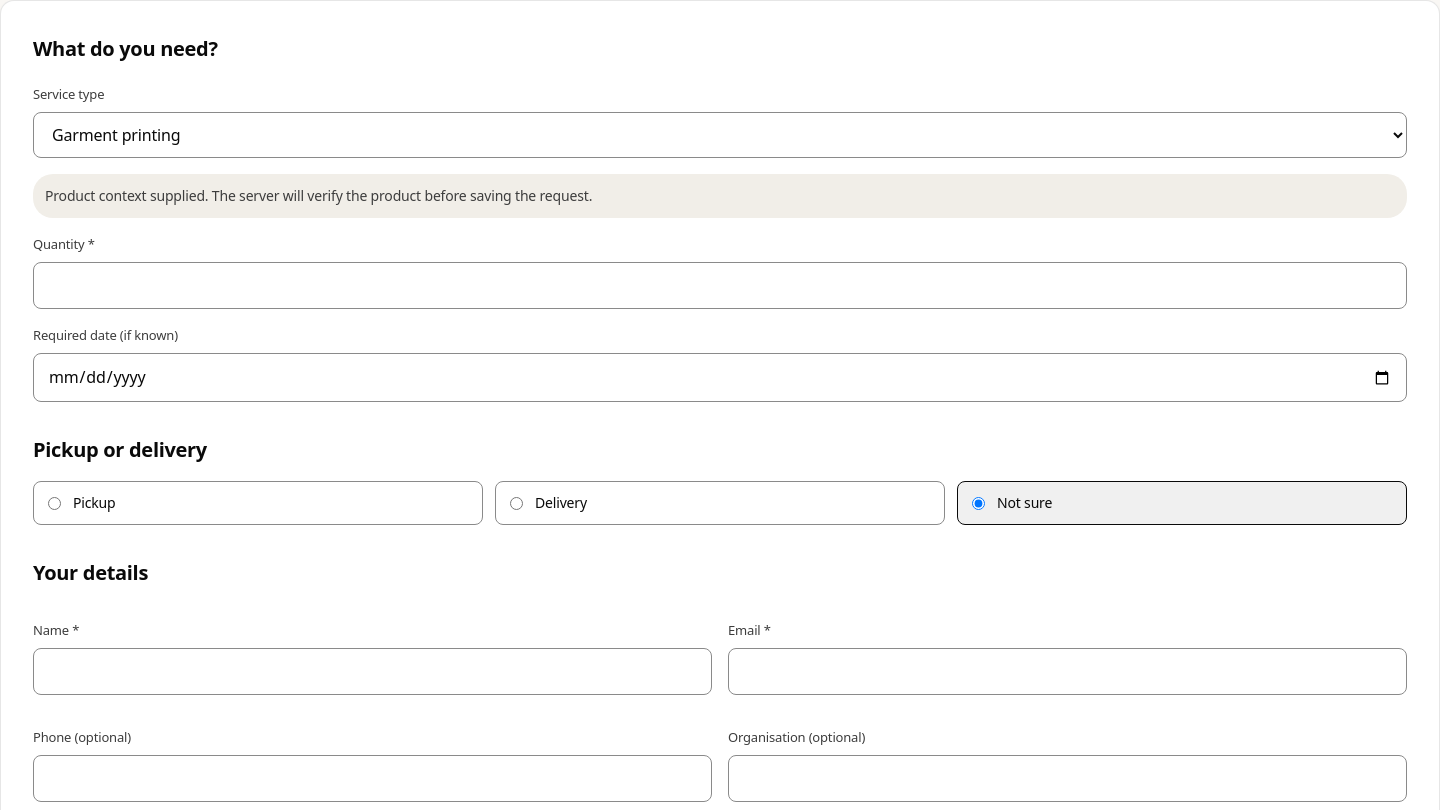
Test case: QuoteFormClient › submits the enquiry-only contract and focuses confirmation
This screenshot has width=1440, height=810.
Type "10" into the number field labelled "Quantity *" at {"x": 720, "y": 286}, box [33, 262, 1407, 309]
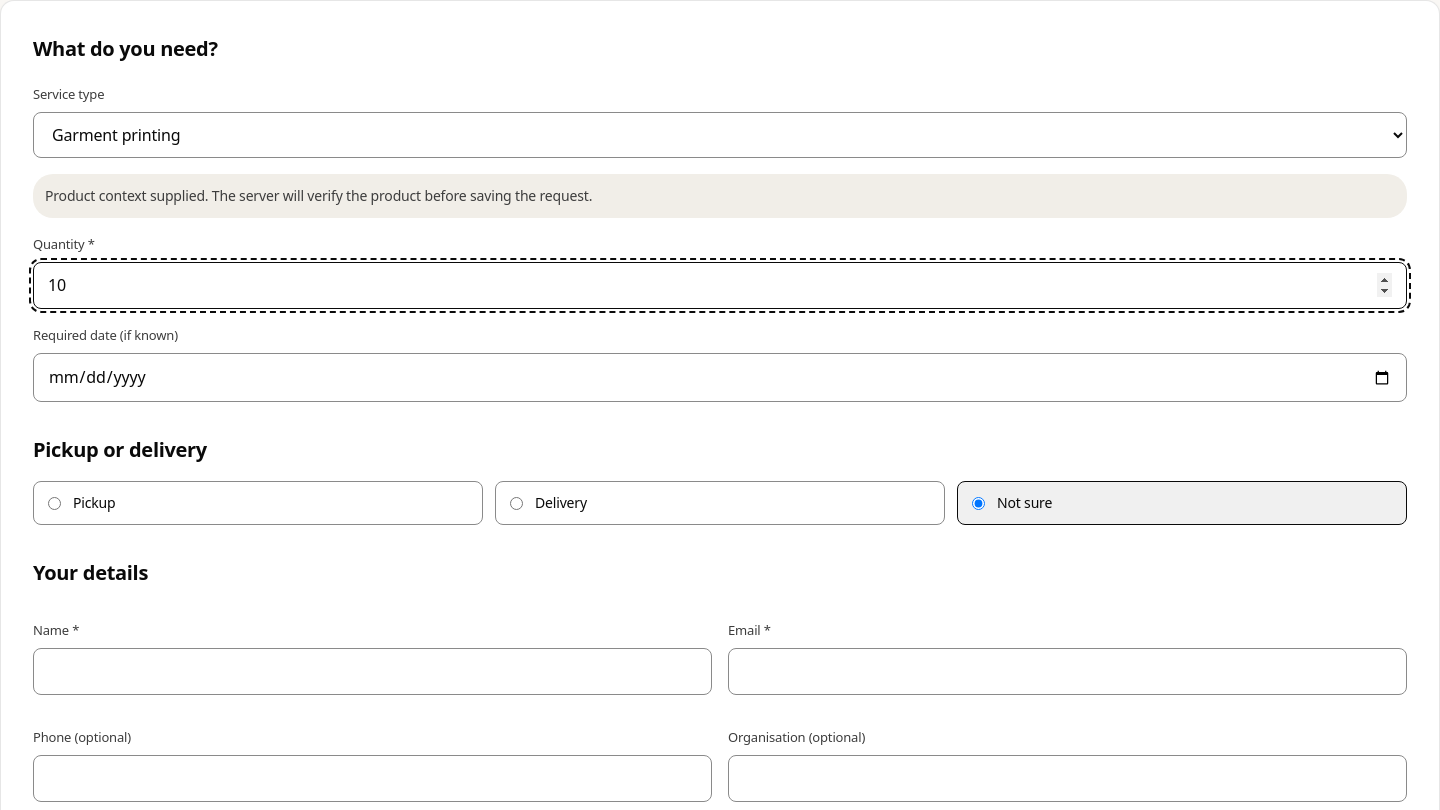
Type "Customer" into the field labelled "Name *" at {"x": 372, "y": 672}, box [33, 648, 712, 695]
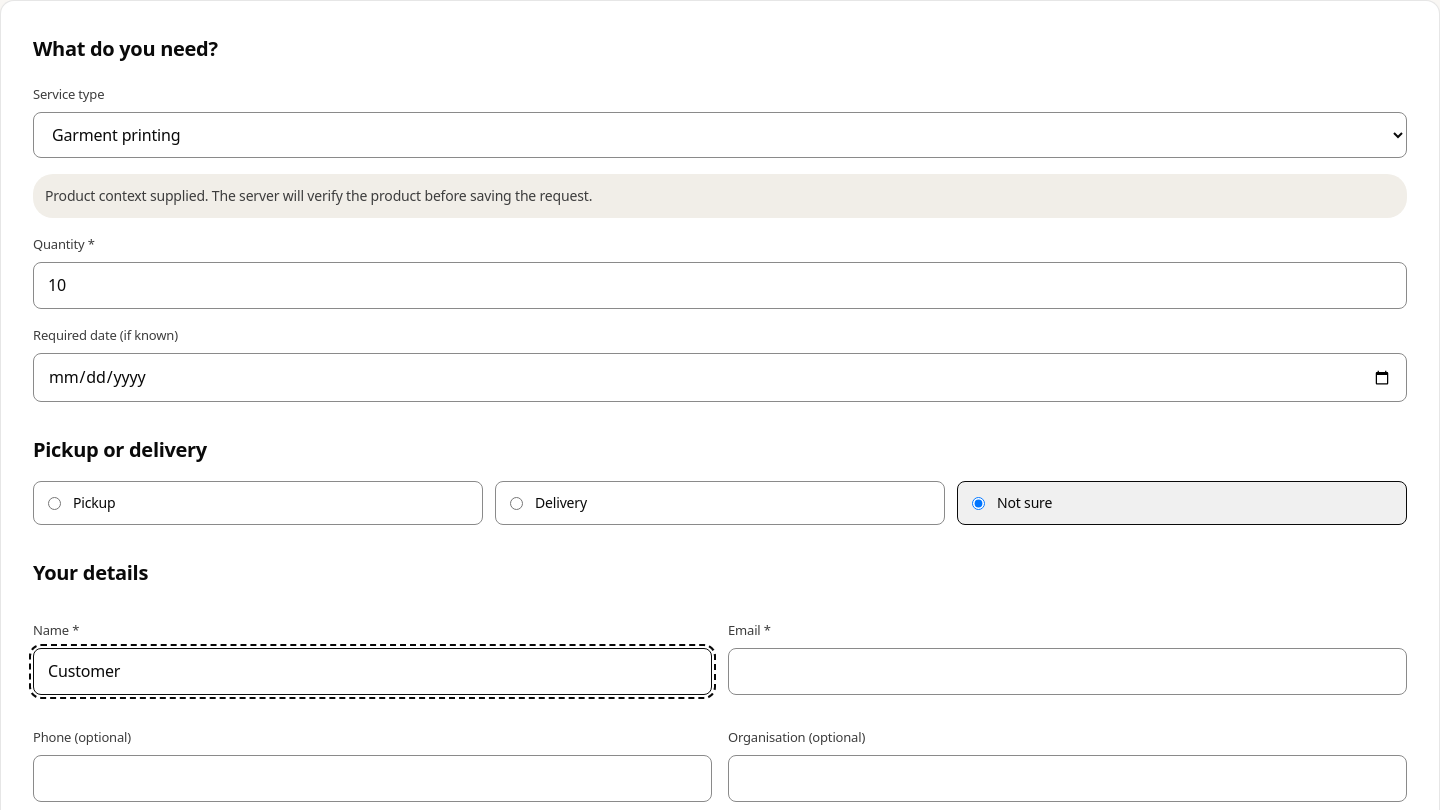
Type "customer@example.com" into the field labelled "Email *" at {"x": 1068, "y": 672}, box [728, 648, 1407, 695]
(page scrolled)
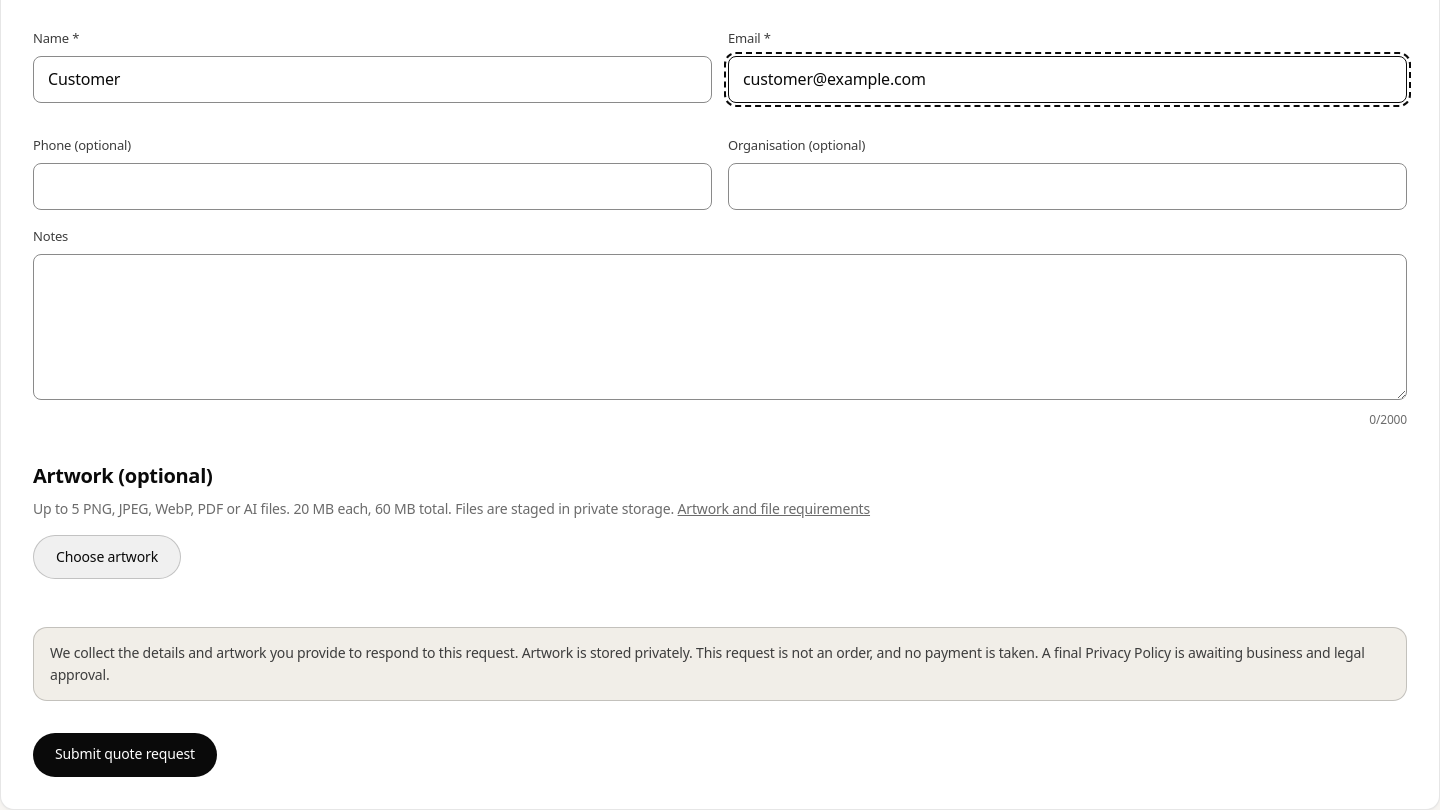
Click the button "Submit quote request" at {"x": 125, "y": 755}, box [33, 733, 217, 777]
(page scrolled)
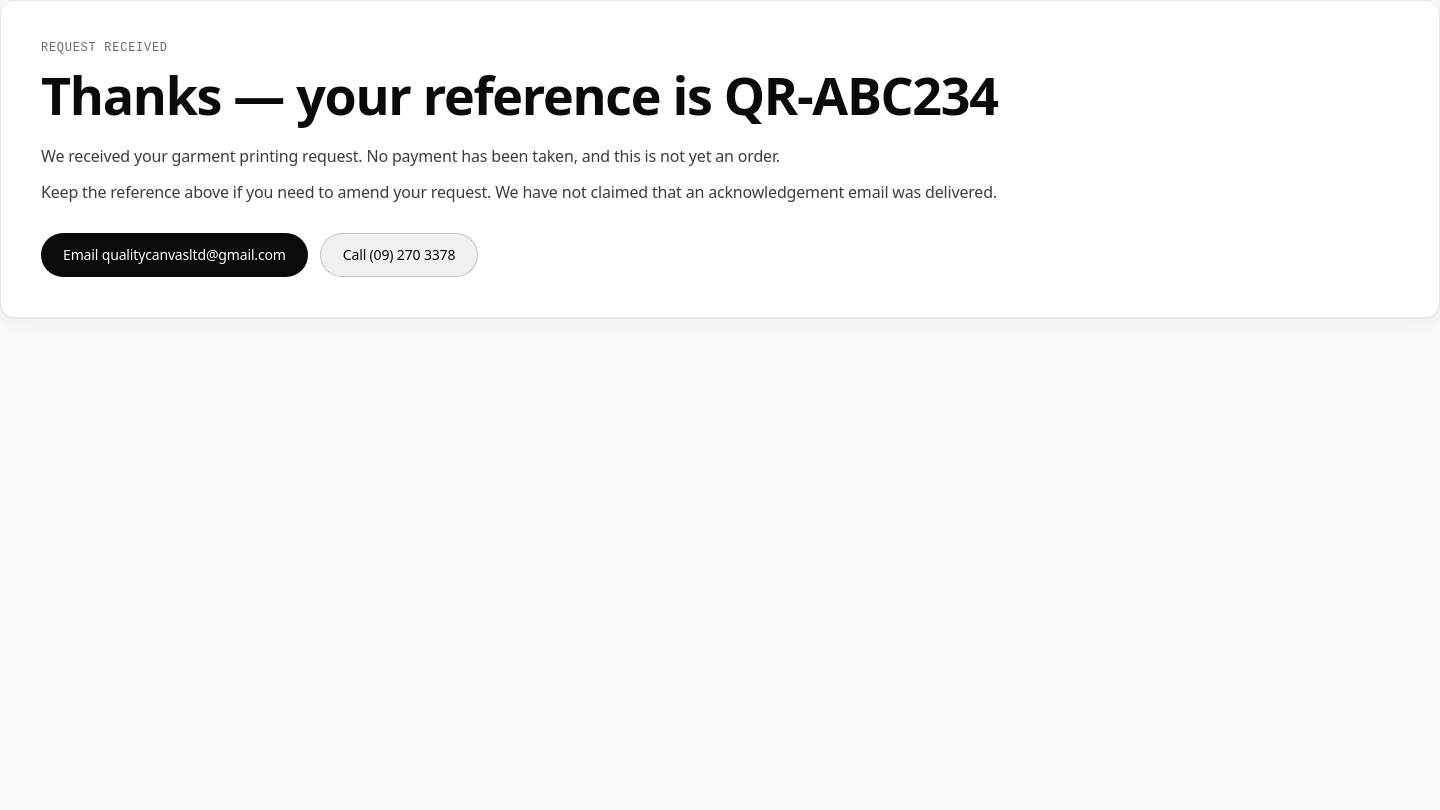
Result: the text "No payment has been taken" is shown at [298, 144, 780, 166]
